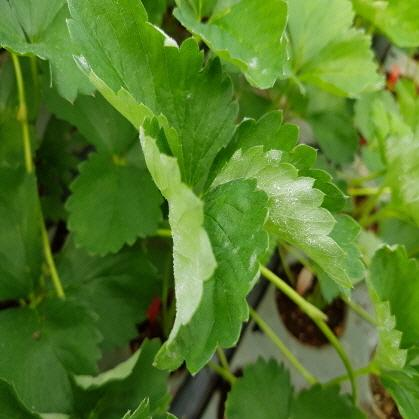Powdery Mildew Leaf: (138, 112, 270, 377), (65, 0, 241, 190), (202, 107, 366, 303), (170, 0, 290, 91), (364, 242, 418, 418)
